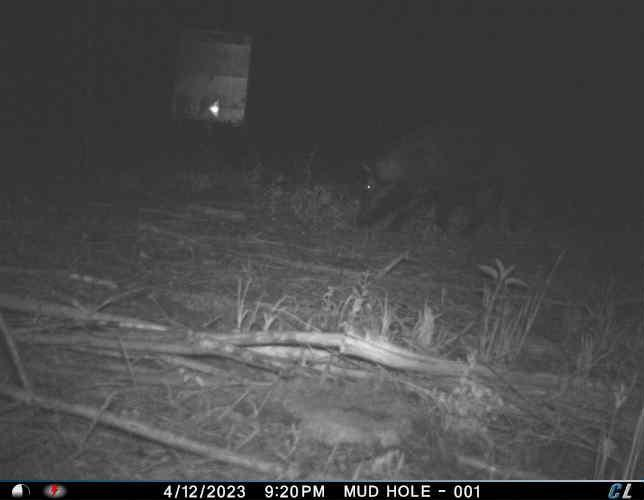Hog: (354, 114, 544, 242)
